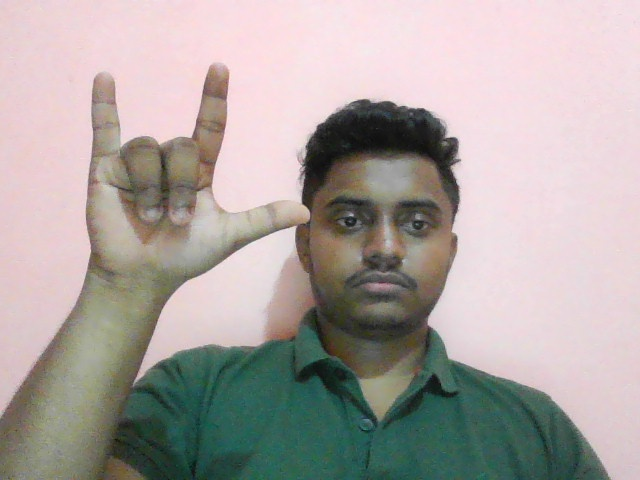I Love You: (69, 56, 317, 311)
